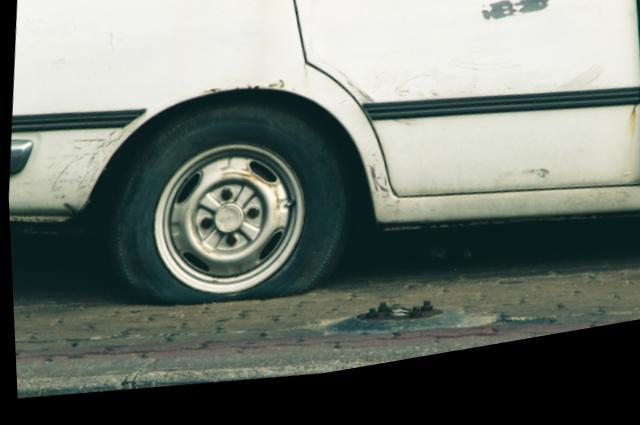scratch: (467, 6, 553, 42)
tire flat: (112, 109, 345, 309)
